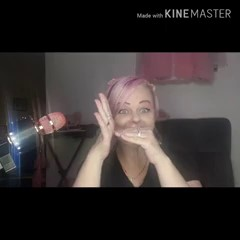Z: (91, 91, 170, 163)
